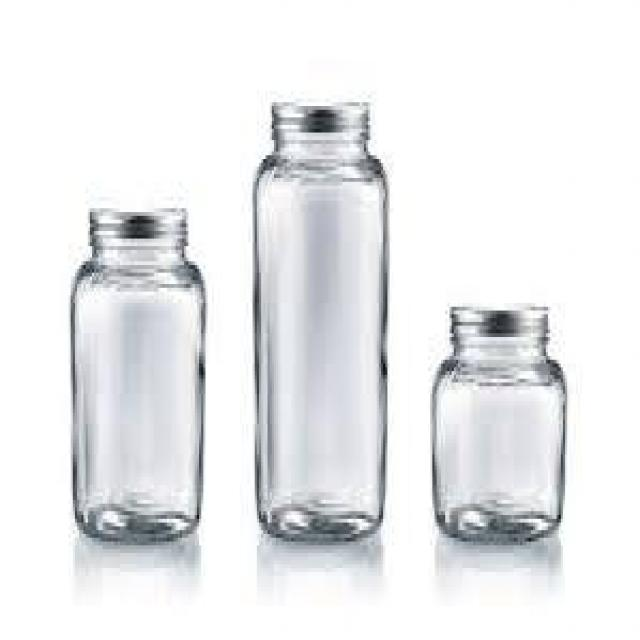non-organic waste: (250, 97, 394, 547), (426, 297, 569, 547)
